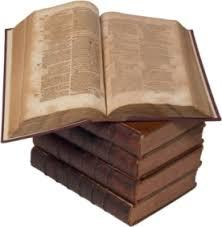Paper: (3, 3, 222, 227)
